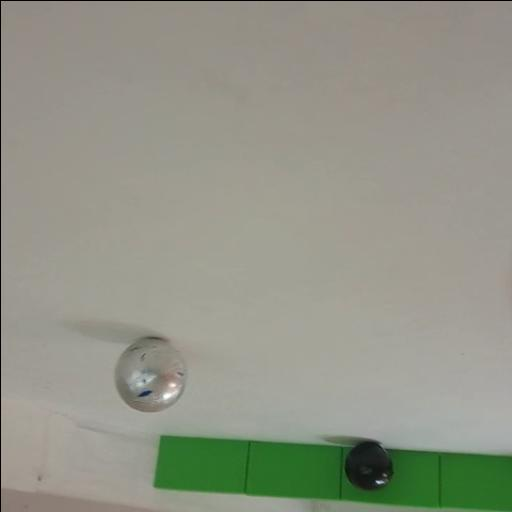alive: (115, 337, 186, 411)
dead: (344, 440, 393, 490)
